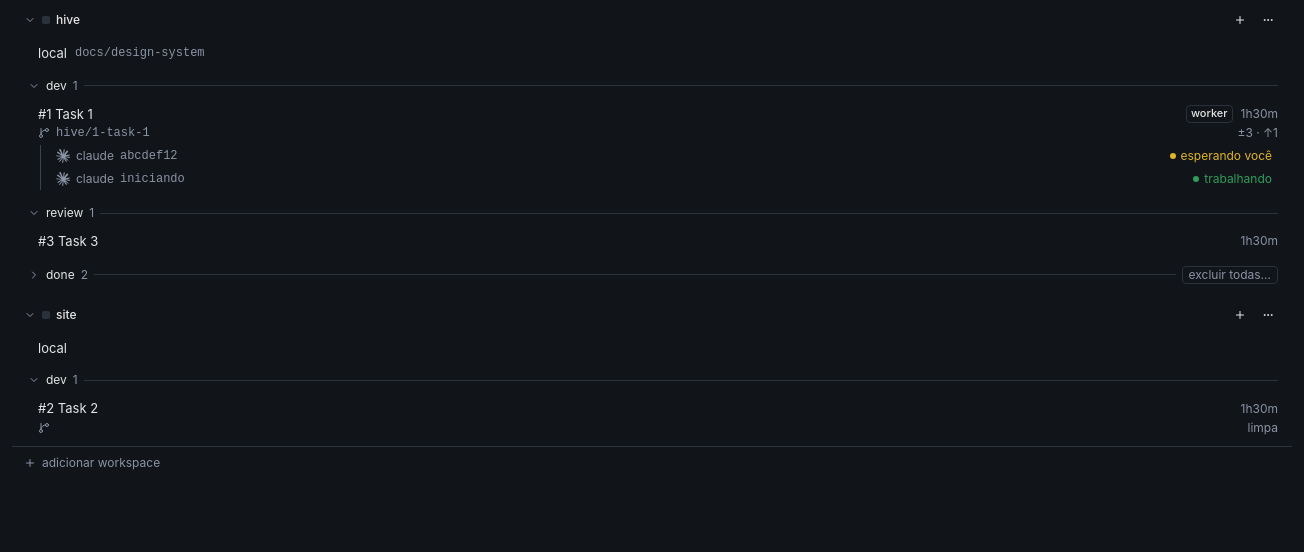
Scenario: done sits last and starts collapsed, with its count; its chevron opens it (#586)
This screenshot has width=1304, height=552.
Expected: the text "2" is shown, [81,267,88,283]
Expected: the text "#4 Task 4" is not shown
Click the button "done 2": (58, 275) [28,267,88,283]
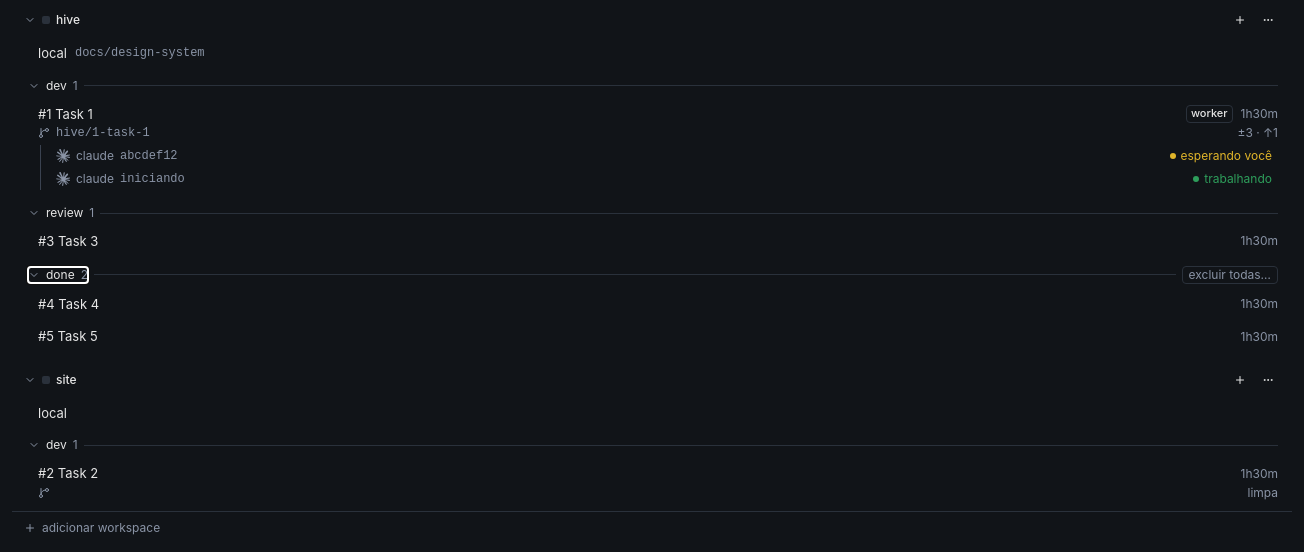
Expected: the text "#4 Task 4" is shown, [38,296,99,312]
